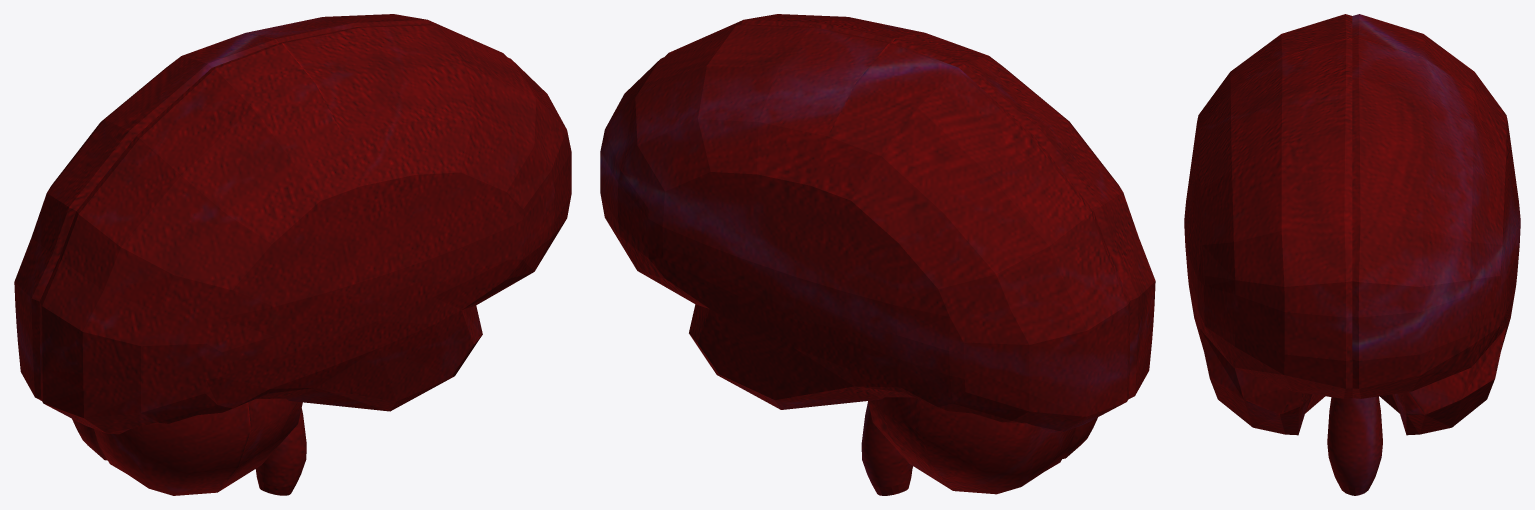
File: Braine.glb
3 views of the same model, side by side, from view 1: azimuth 30°, elevation 25°; view 2: azimuth 150°, elevation 25°; view 3: azimuth 270°, elevation 25° (orthographic).
Visible parts, largest first — view 1: Box019; view 2: Box019; view 3: Box019.
Part boxes in pixels (bbox=[...]): Box019: bbox=[14, 14, 571, 495]; Box019: bbox=[600, 14, 1155, 495]; Box019: bbox=[1184, 14, 1520, 495].
Bounding box in the file's own units: 2.41 × 2.04 × 1.38.
1 material, 1 textured.
